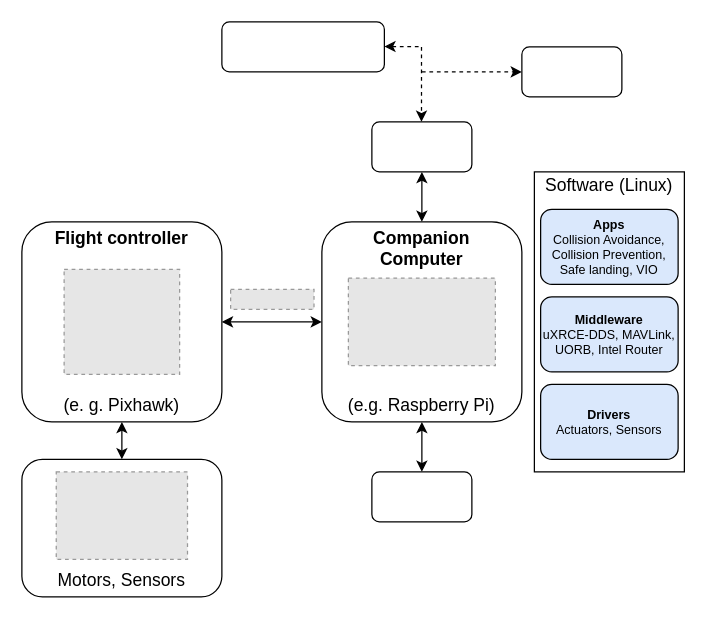
The diagram is 706 pixels wide and 619 high, and some of its shapes have lost their labels. Grey dashed boxes stand in for pictures. The centre of each missing label's shape, as x and y in pixels:
Cloud: pixel 571 71
Ground Station: pixel 302 46
Sensors: pixel 421 496
Telemetry Radio: pixel 421 146
